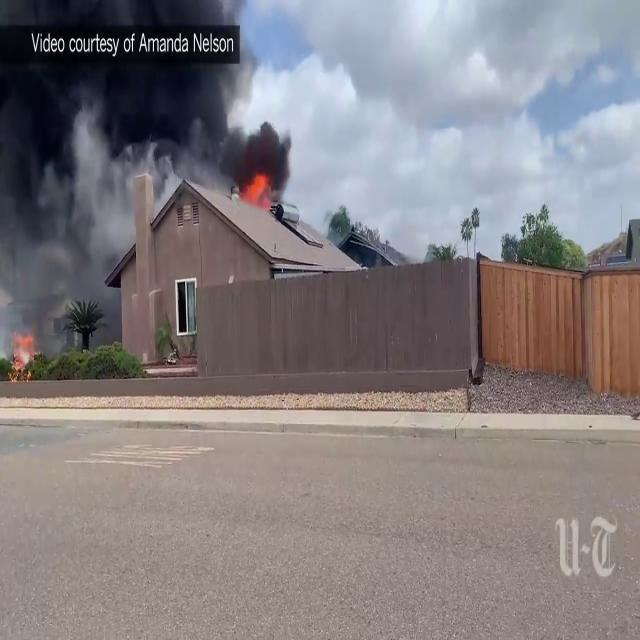Smoke: (0, 1, 290, 192), (0, 17, 122, 354)
